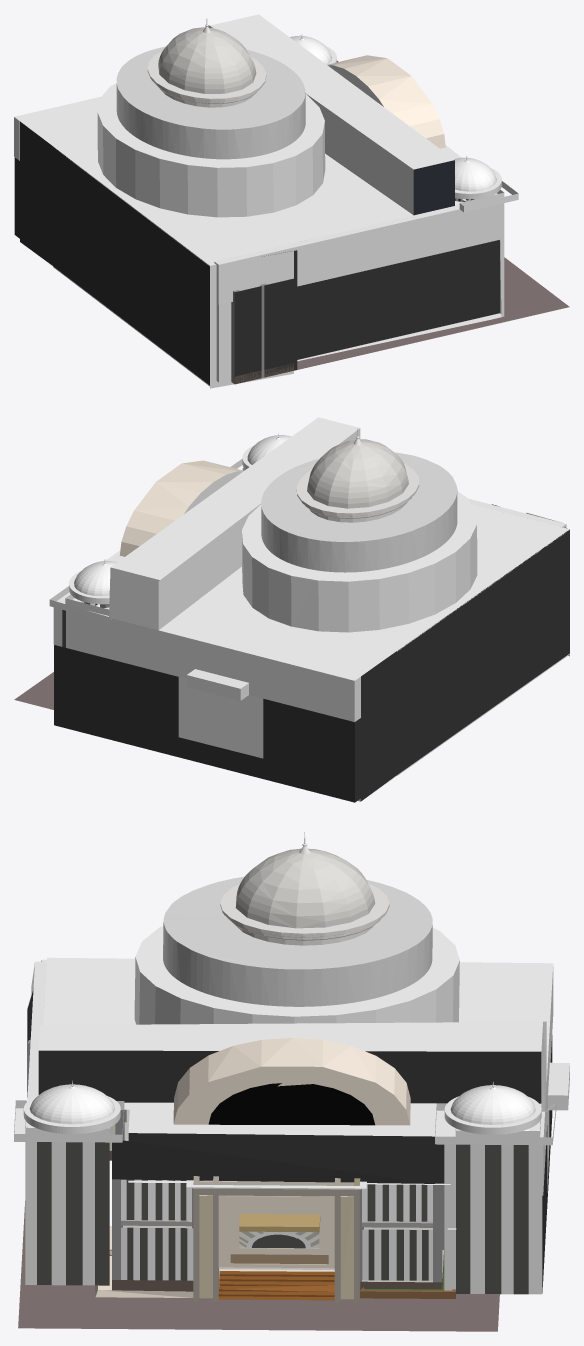
File: masjid.glb
3 views of the same model, one above another, from view 1: azimuth 30°, elevation 25°; view 2: azimuth 150°, elevation 25°; view 3: azimuth 270°, elevation 25° (orthographic). The views are drawn at different scales.
Visible parts, largest first — view 1: Object_9; view 2: Object_9; view 3: Object_9.
Boxes of the visible parts, x1,y1,x2,y2 form: Object_9: (14, 14, 569, 388); Object_9: (14, 417, 569, 802); Object_9: (14, 832, 569, 1331).
Bounding box in the file's own units: 15 × 11 × 16.
Materials: 1 (1 with a texture image).
